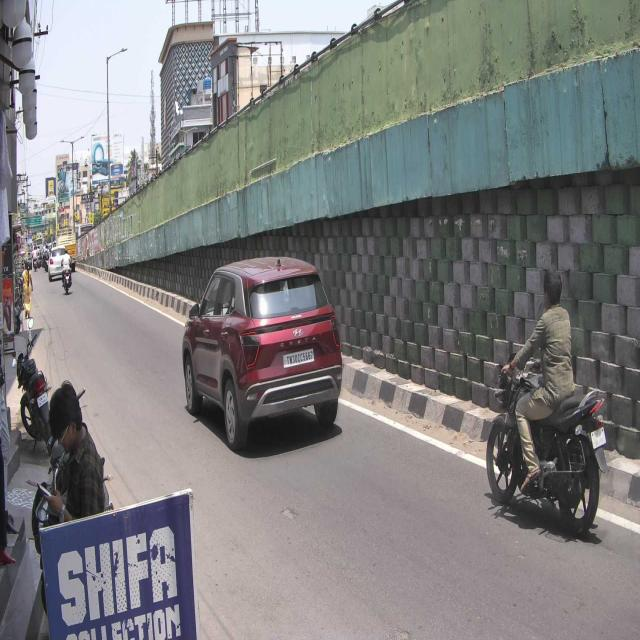single_rider: (484, 268, 608, 538)
